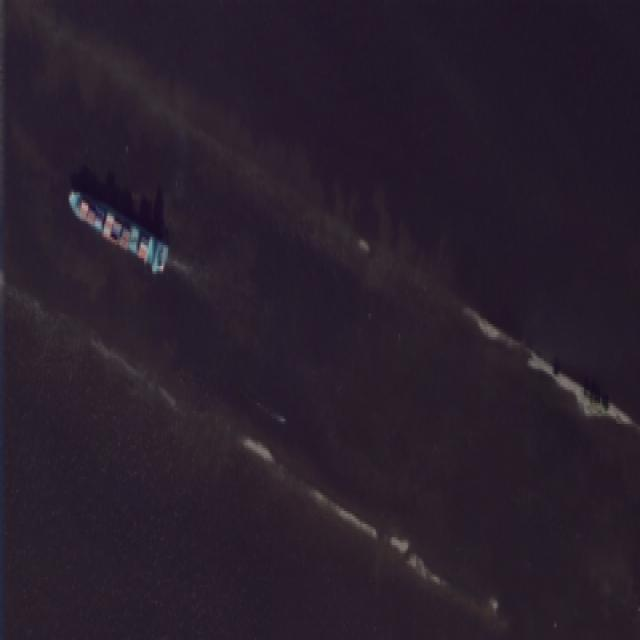boat: (28, 37, 34, 53)
